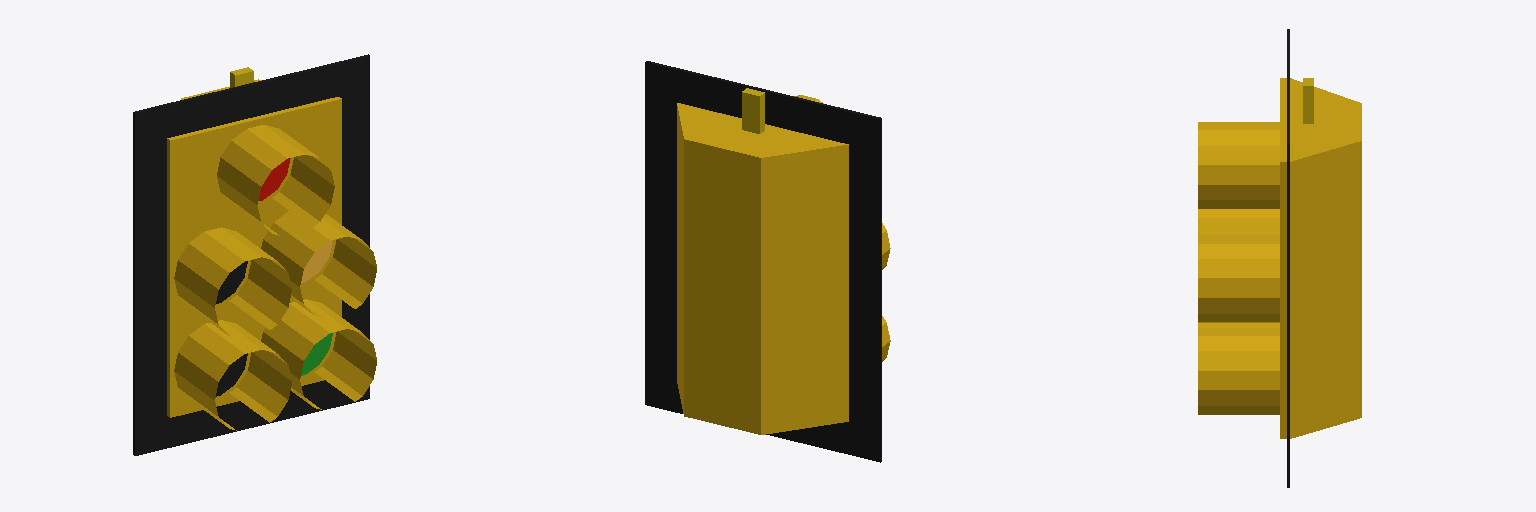
File: TrafficSignal_Stoplight_Only_Turn.obj
3 renders of one model, left to right at view 1: azimuth 30°, elevation 25°; view 2: azimuth 150°, elevation 25°; view 3: azimuth 270°, elevation 25°, orthographic.
Parts seen in each view (by area): view 1: Mesh1 Model, Mesh4 Model, Mesh5 Model, Mesh3 Model, Mesh2 Model; view 2: Mesh1 Model; view 3: Mesh1 Model, Mesh2 Model, Mesh3 Model, Mesh4 Model.
Part boxes in pixels (left/top/right/bottom): Mesh1 Model: left=133, top=54, right=369, bottom=455; Mesh4 Model: left=174, top=227, right=291, bottom=337; Mesh5 Model: left=174, top=320, right=291, bottom=430; Mesh3 Model: left=261, top=299, right=376, bottom=409; Mesh2 Model: left=261, top=211, right=376, bottom=316; Mesh1 Model: left=645, top=61, right=881, bottom=462; Mesh1 Model: left=1198, top=29, right=1361, bottom=487; Mesh2 Model: left=1198, top=235, right=1279, bottom=322; Mesh3 Model: left=1198, top=328, right=1279, bottom=414; Mesh4 Model: left=1198, top=209, right=1279, bottom=234.
Size of the model in its own units: 37.31 by 52.75 by 22.4.